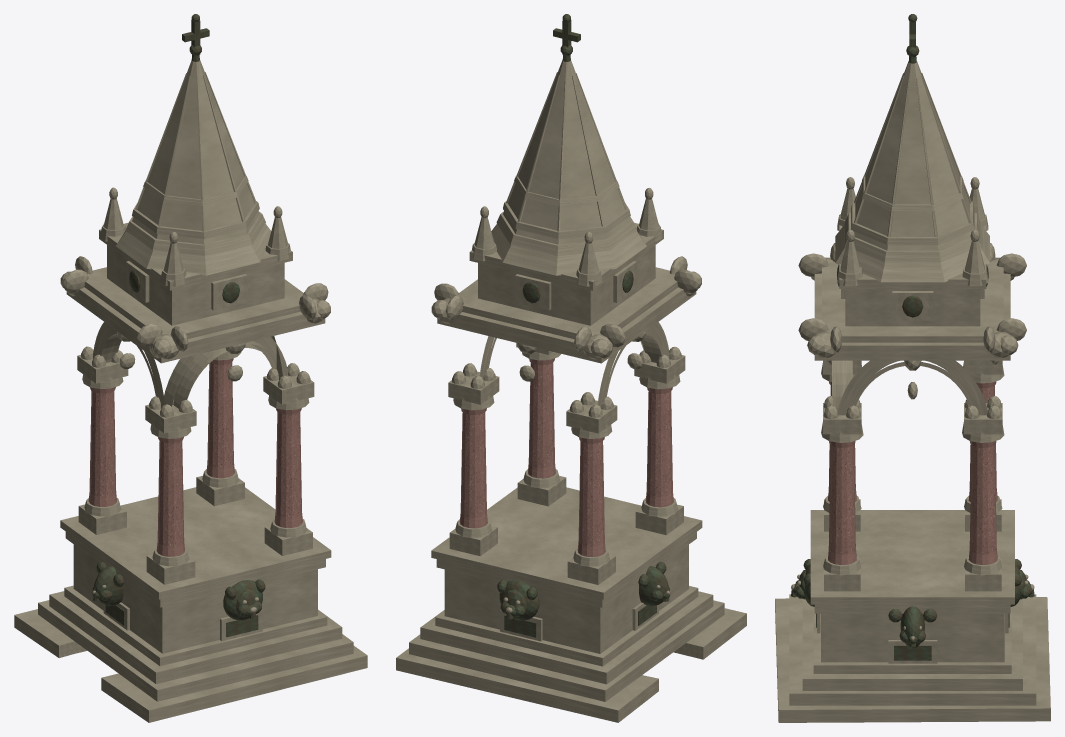
3 views of the same model, side by side, from view 1: azimuth 30°, elevation 25°; view 2: azimuth 150°, elevation 25°; view 3: azimuth 270°, elevation 25° (orthographic). The views are drawn at different scales.
Visible parts, largest first — view 1: Pedestal upper ledge, Tall octagonal tapering spire, Main square pedestal, Footprint-shaped lower stone step, Second broad step, Upper bevelled step, Upper square lantern, Canopy shadow course, Canopy lower cornice, Pedestal lower moulding, Octagonal spire foot, Column 1 pink granite shaft (+22 smaller); view 2: Pedestal upper ledge, Tall octagonal tapering spire, Main square pedestal, Footprint-shaped lower stone step, Second broad step, Upper bevelled step, Upper square lantern, Canopy shadow course, Canopy lower cornice, Pedestal lower moulding, Octagonal spire foot, Column 2 pink granite shaft (+20 smaller); view 3: Pedestal upper ledge, Tall octagonal tapering spire, Footprint-shaped lower stone step, Main square pedestal, Second broad step, Upper bevelled step, Canopy shadow course, Upper square lantern, Canopy lower cornice, Pedestal lower moulding, Octagonal spire foot, Column 3 pink granite shaft (+24 smaller).
Part boxes in pixels (bbox=[...]): Pedestal upper ledge: bbox=[60, 487, 331, 599]; Tall octagonal tapering spire: bbox=[132, 60, 259, 244]; Main square pedestal: bbox=[73, 544, 317, 653]; Footprint-shaped lower stone step: bbox=[14, 609, 367, 722]; Second broad step: bbox=[38, 600, 353, 701]; Upper bevelled step: bbox=[49, 591, 342, 683]; Upper square lantern: bbox=[107, 245, 284, 325]; Canopy shadow course: bbox=[84, 267, 303, 338]; Canopy lower cornice: bbox=[66, 287, 325, 363]; Pedestal lower moulding: bbox=[64, 585, 327, 666]; Octagonal spire foot: bbox=[116, 224, 271, 275]; Column 1 pink granite shaft: bbox=[157, 441, 184, 546]; Pedestal upper ledge: bbox=[431, 487, 702, 599]; Tall octagonal tapering spire: bbox=[503, 60, 630, 244]; Main square pedestal: bbox=[444, 545, 688, 653]; Footprint-shaped lower stone step: bbox=[396, 608, 746, 722]; Second broad step: bbox=[409, 600, 724, 701]; Upper bevelled step: bbox=[420, 591, 713, 684]; Upper square lantern: bbox=[478, 245, 655, 325]; Canopy shadow course: bbox=[459, 267, 677, 339]; Canopy lower cornice: bbox=[437, 287, 696, 363]; Pedestal lower moulding: bbox=[435, 586, 698, 666]; Octagonal spire foot: bbox=[491, 224, 646, 275]; Column 2 pink granite shaft: bbox=[578, 441, 604, 546]; Pedestal upper ledge: bbox=[810, 510, 1014, 604]; Tall octagonal tapering spire: bbox=[853, 61, 971, 250]; Footprint-shaped lower stone step: bbox=[775, 597, 1050, 722]; Main square pedestal: bbox=[821, 613, 1004, 662]; Second broad step: bbox=[789, 594, 1036, 705]; Upper bevelled step: bbox=[802, 598, 1022, 690]; Canopy shadow course: bbox=[822, 261, 1003, 342]; Upper square lantern: bbox=[845, 289, 980, 326]; Canopy lower cornice: bbox=[814, 273, 1010, 360]; Pedestal lower moulding: bbox=[813, 607, 1011, 673]; Octagonal spire foot: bbox=[835, 224, 989, 282]; Column 3 pink granite shaft: bbox=[828, 445, 855, 554].
Size of the model in its own units: 2.62 by 7.07 by 2.7.
4 materials, 4 textured.
